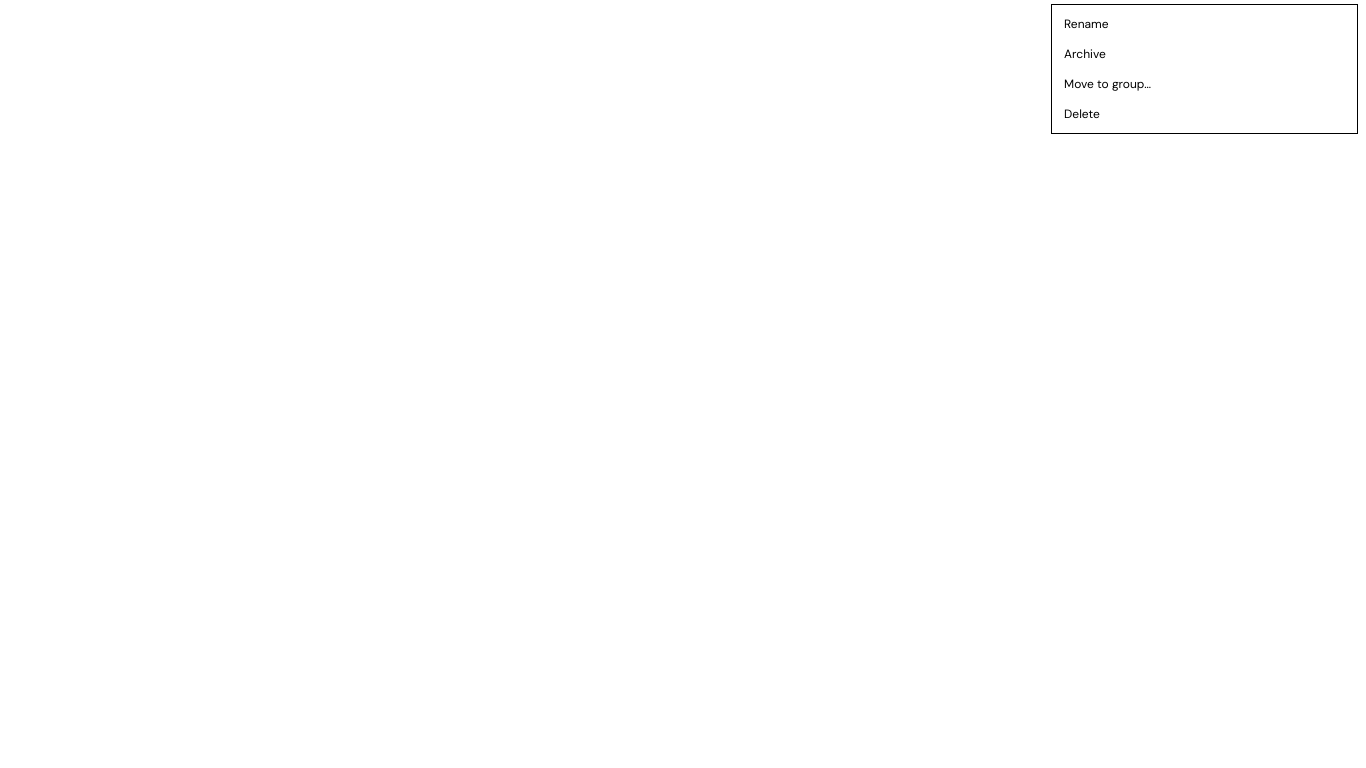
Test: ThreadActionMenu — focus management (WCAG 2.4.3) › group input field receives focus on group-input transition
The width and height of the screenshot is (1366, 768).
Click the menu item "Move to group…".
click(1108, 84)  # box [1052,69,1357,99]
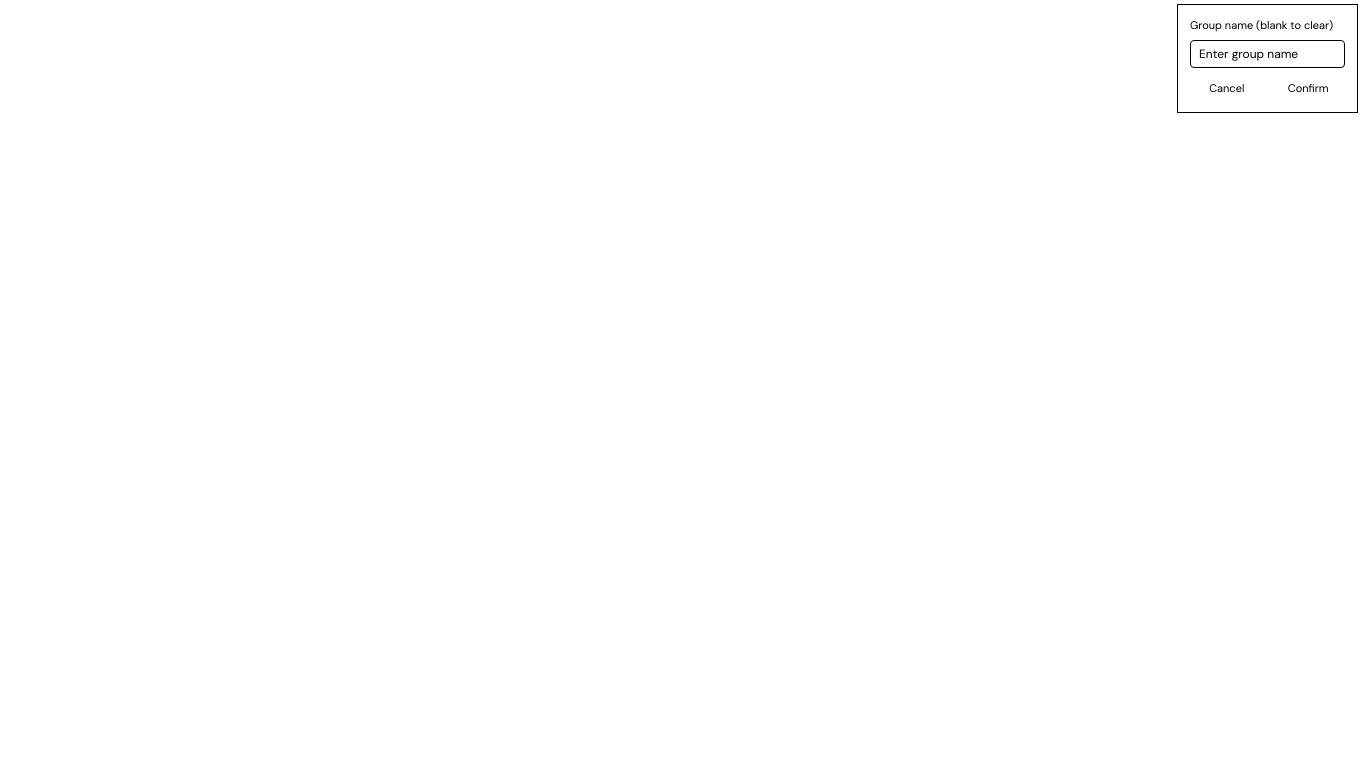
Expected: the field with placeholder "Enter group name" is shown, [1190,40,1345,68]
